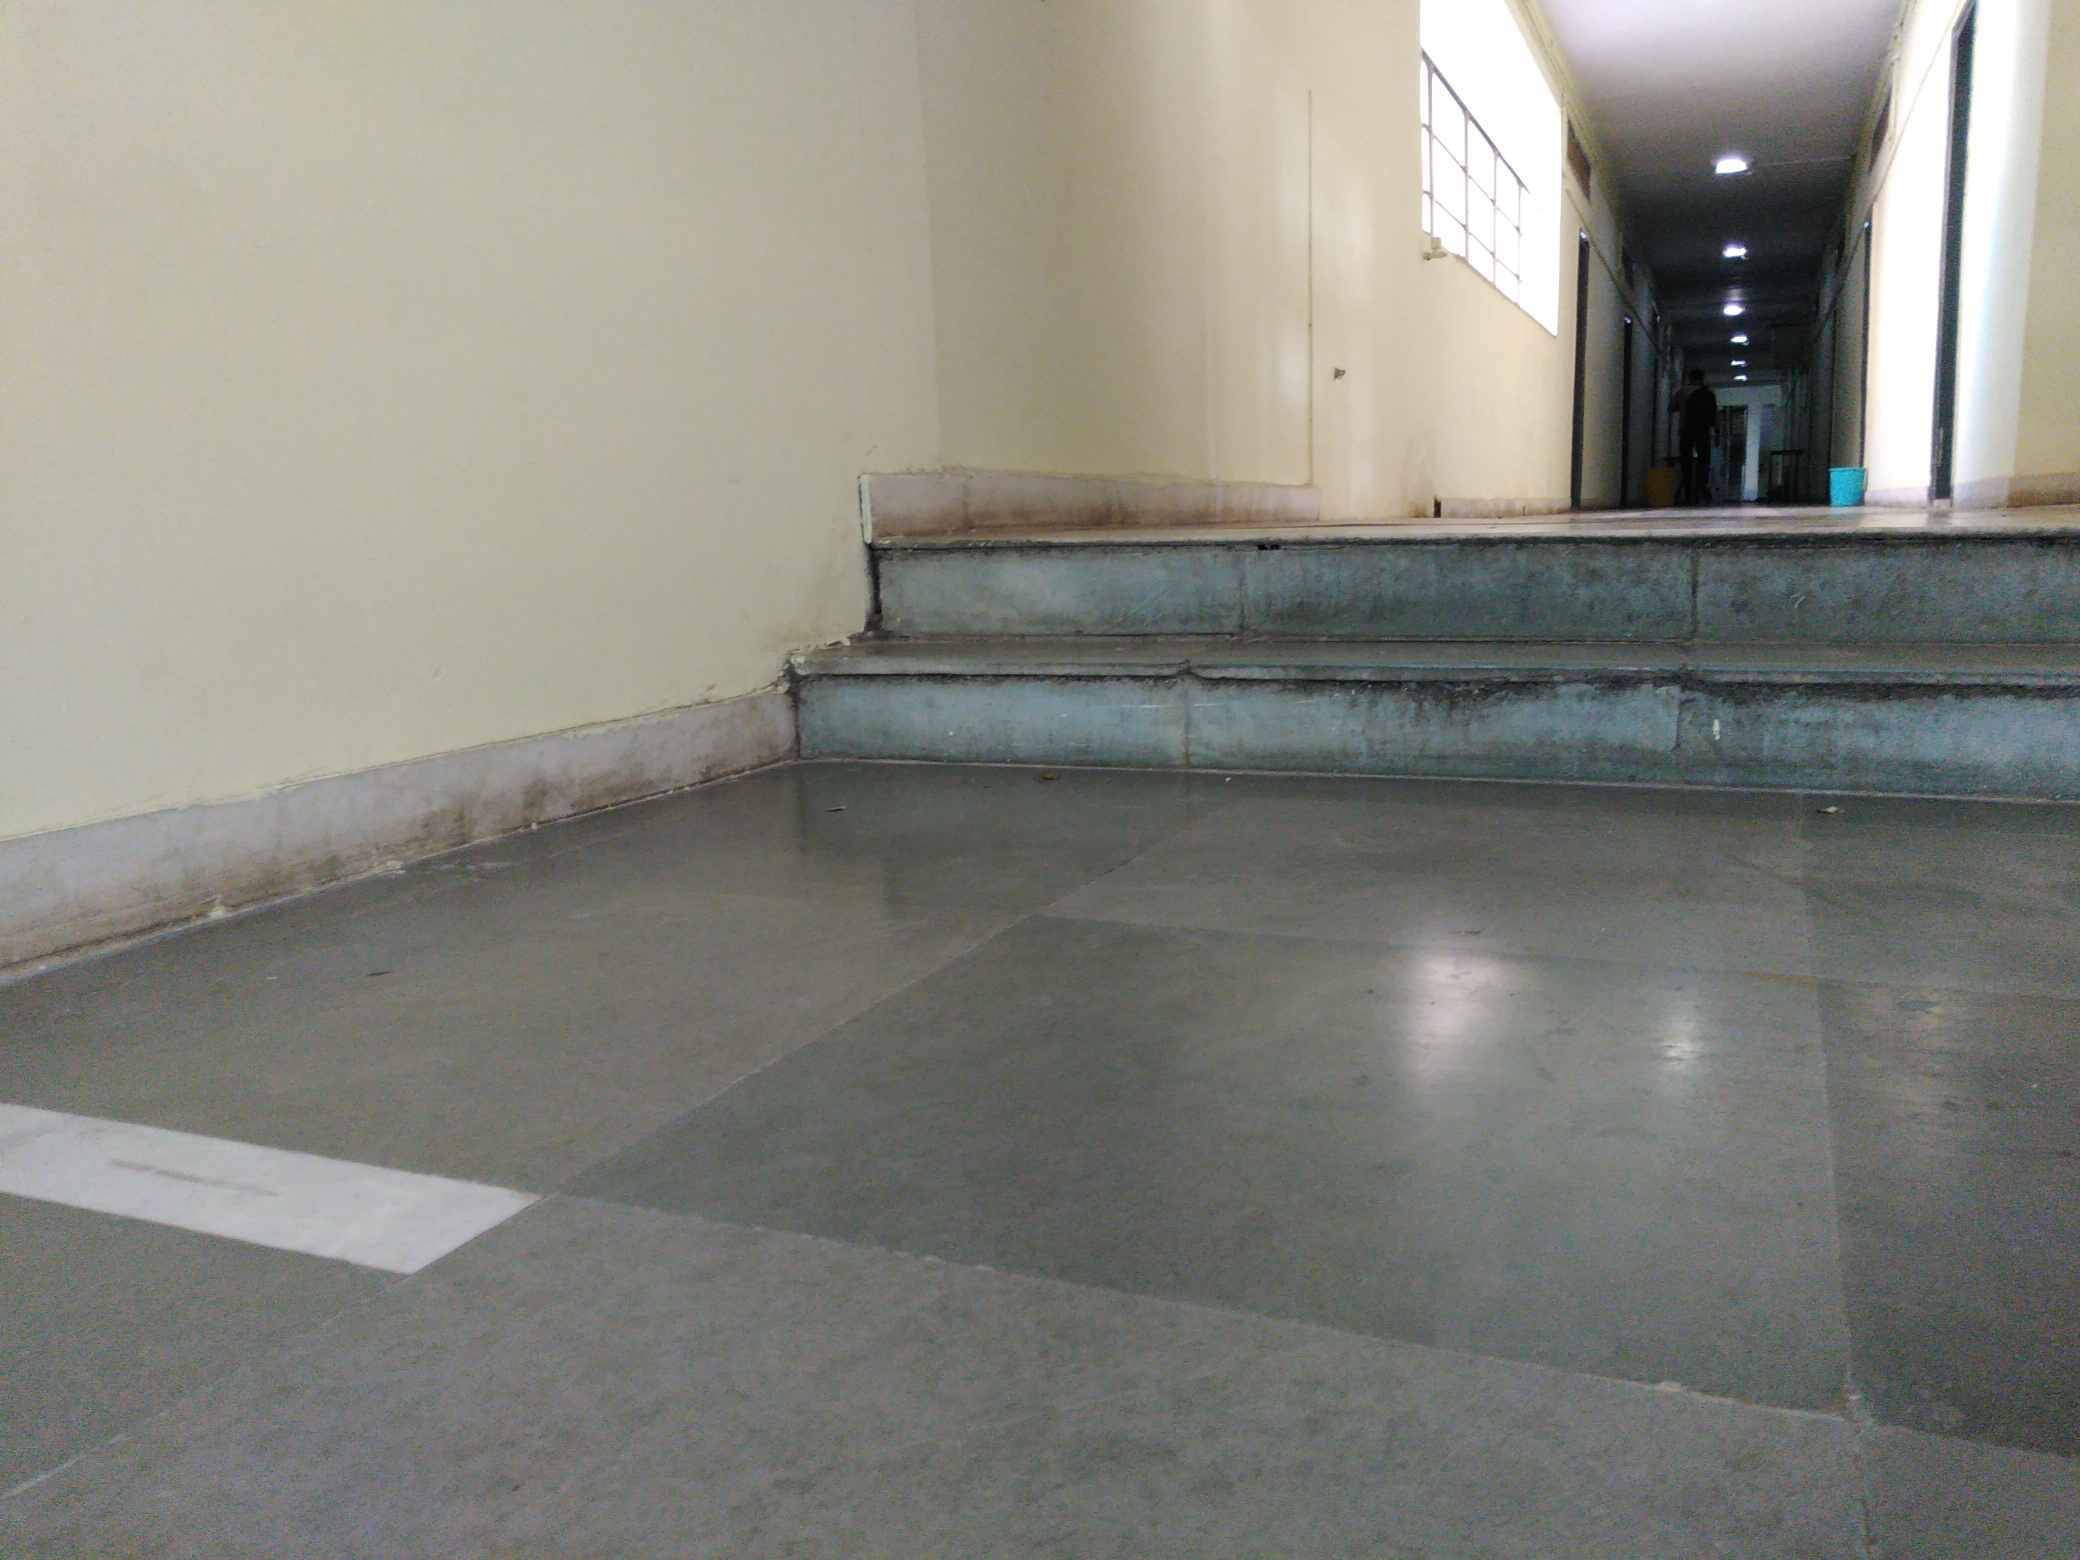stairs_up: (783, 519, 2065, 816)
